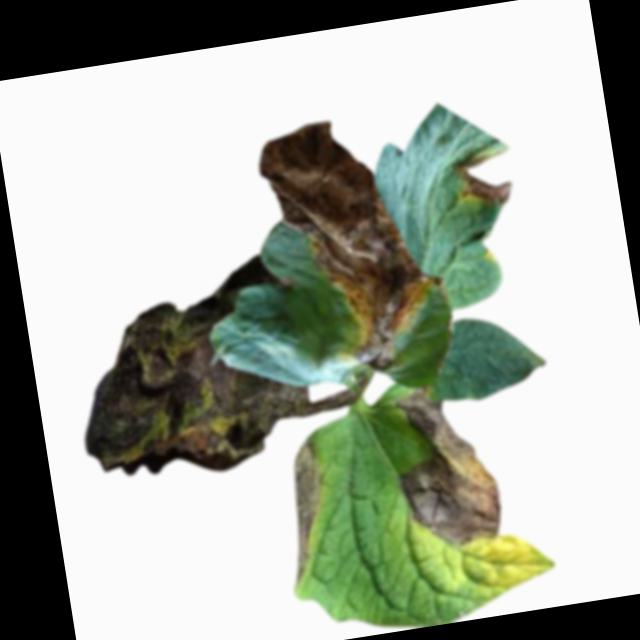Early_blight: (59, 250, 317, 496), (254, 106, 455, 384), (388, 378, 507, 552), (273, 436, 335, 585), (450, 145, 517, 211)
